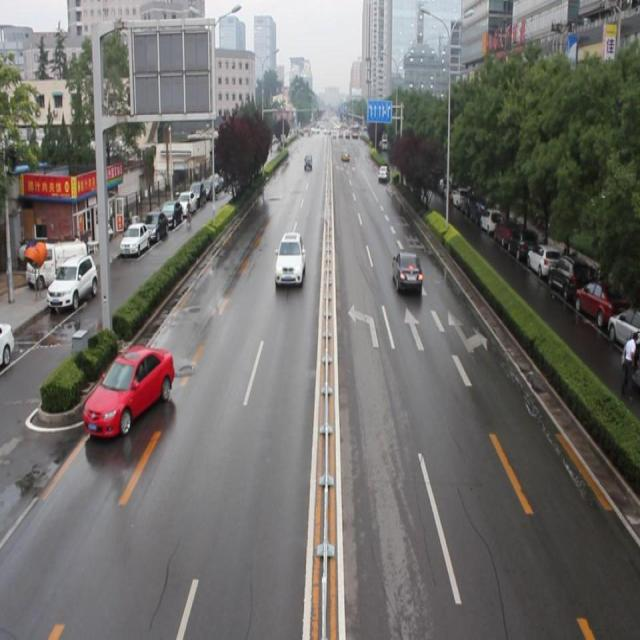car: (81, 341, 176, 436), (274, 232, 307, 289), (391, 249, 422, 289), (376, 162, 388, 182)
truck: (304, 152, 312, 172)
